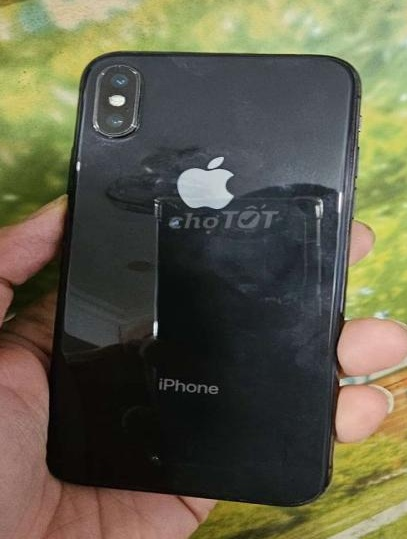scratch: (93, 63, 144, 145), (60, 157, 95, 175)
